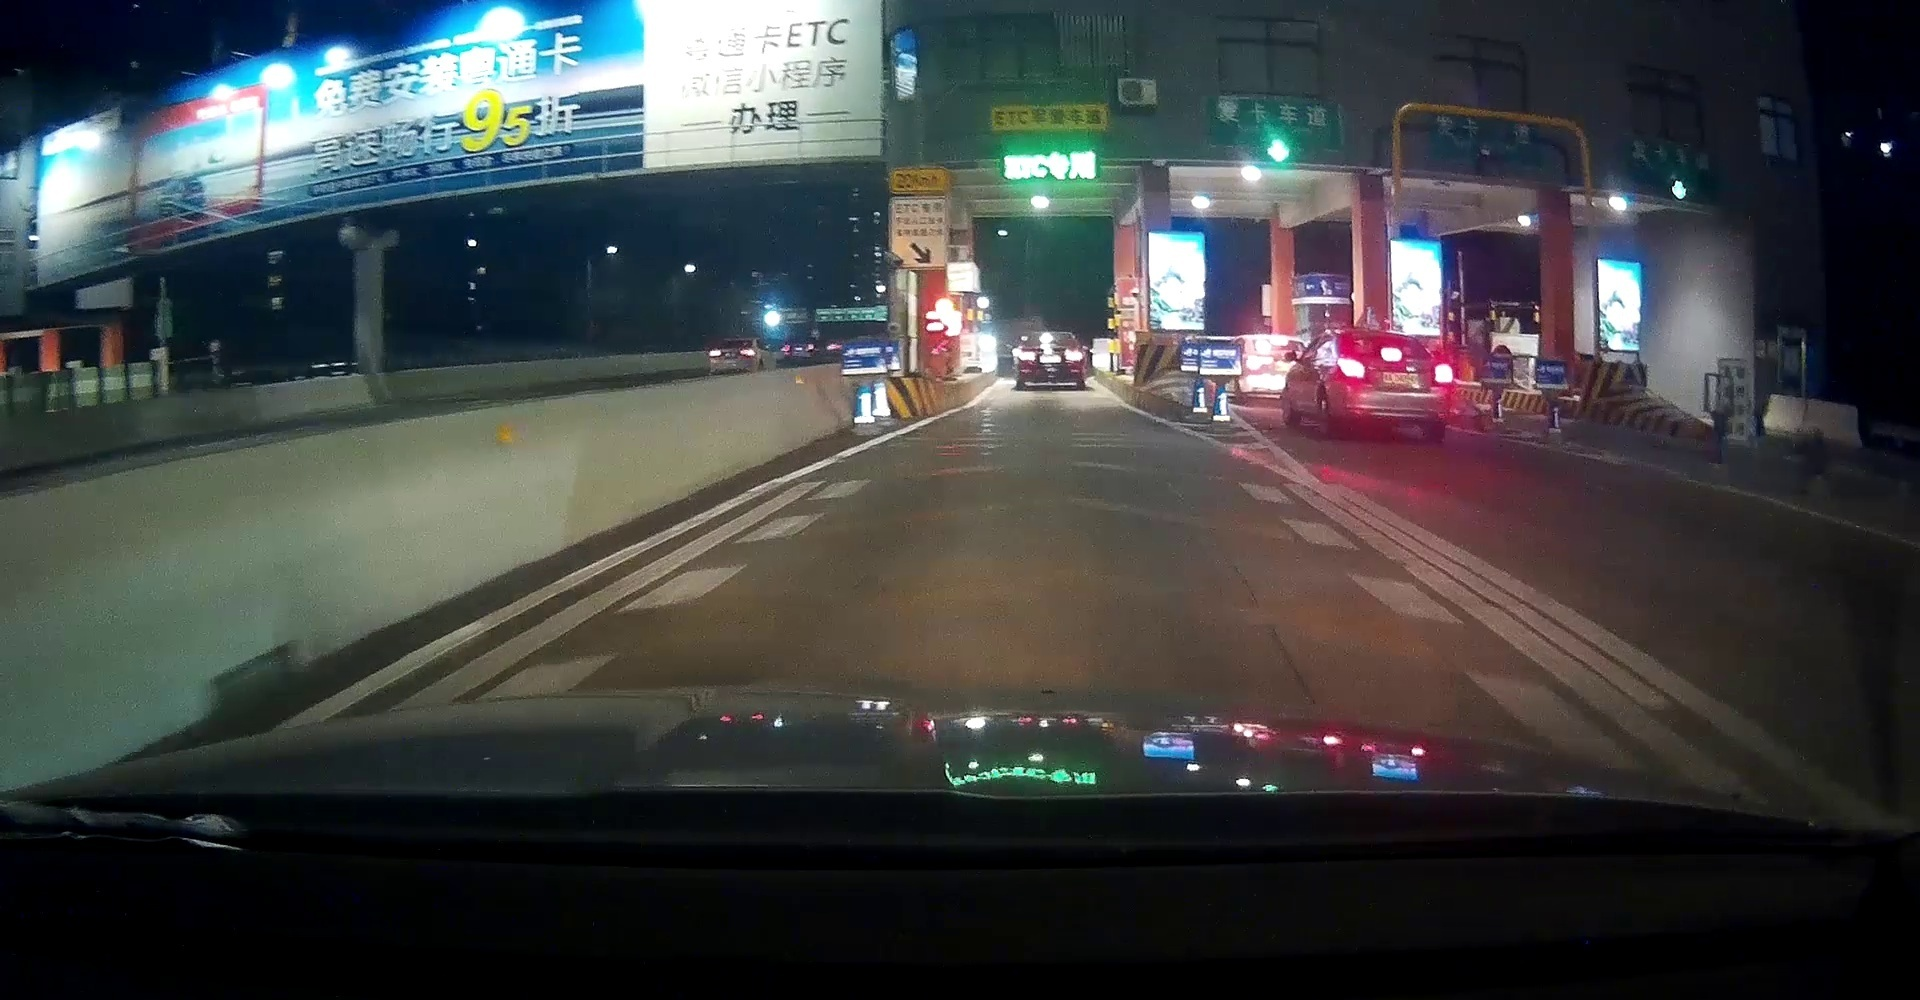L_light: (1337, 358, 1365, 378), (1017, 352, 1036, 360), (709, 349, 721, 357)
R_light: (1434, 363, 1453, 383), (1065, 352, 1083, 360), (739, 348, 756, 357)
T_light: (1382, 349, 1402, 359), (1040, 343, 1057, 348), (730, 339, 742, 343)
night-brake: (1331, 327, 1454, 435), (1012, 329, 1086, 390)
night-no: (707, 338, 756, 377)
